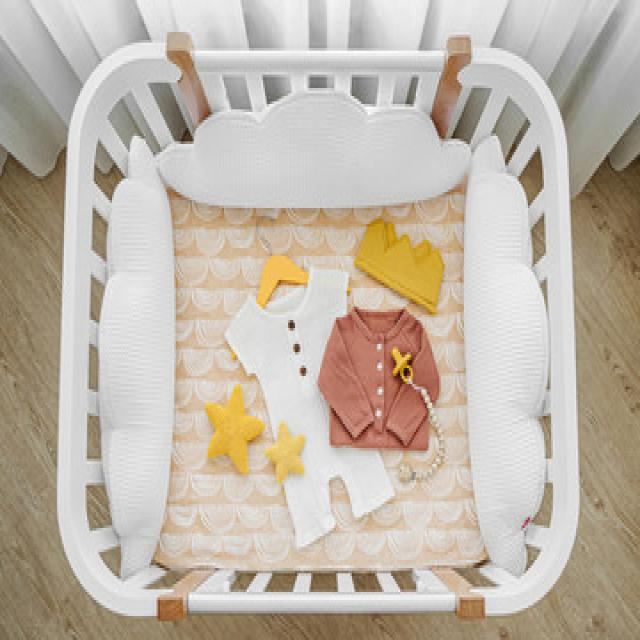crib: (55, 27, 581, 621)
